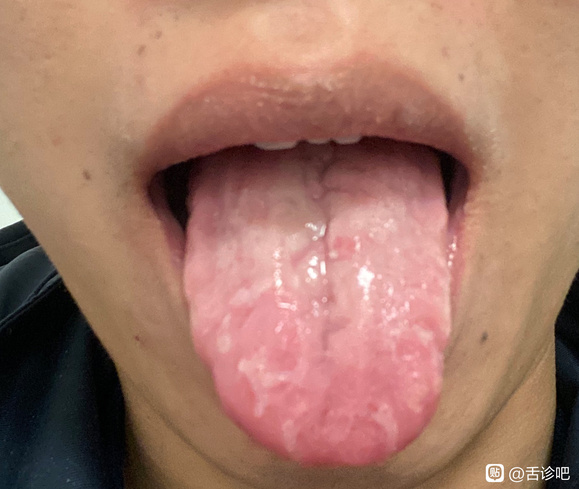baitaishe: (182, 137, 450, 468)
botaishe: (233, 330, 412, 459)
chihenshe: (182, 283, 222, 410)
hongshe: (182, 137, 450, 468)
liewenshe: (302, 149, 349, 353)
